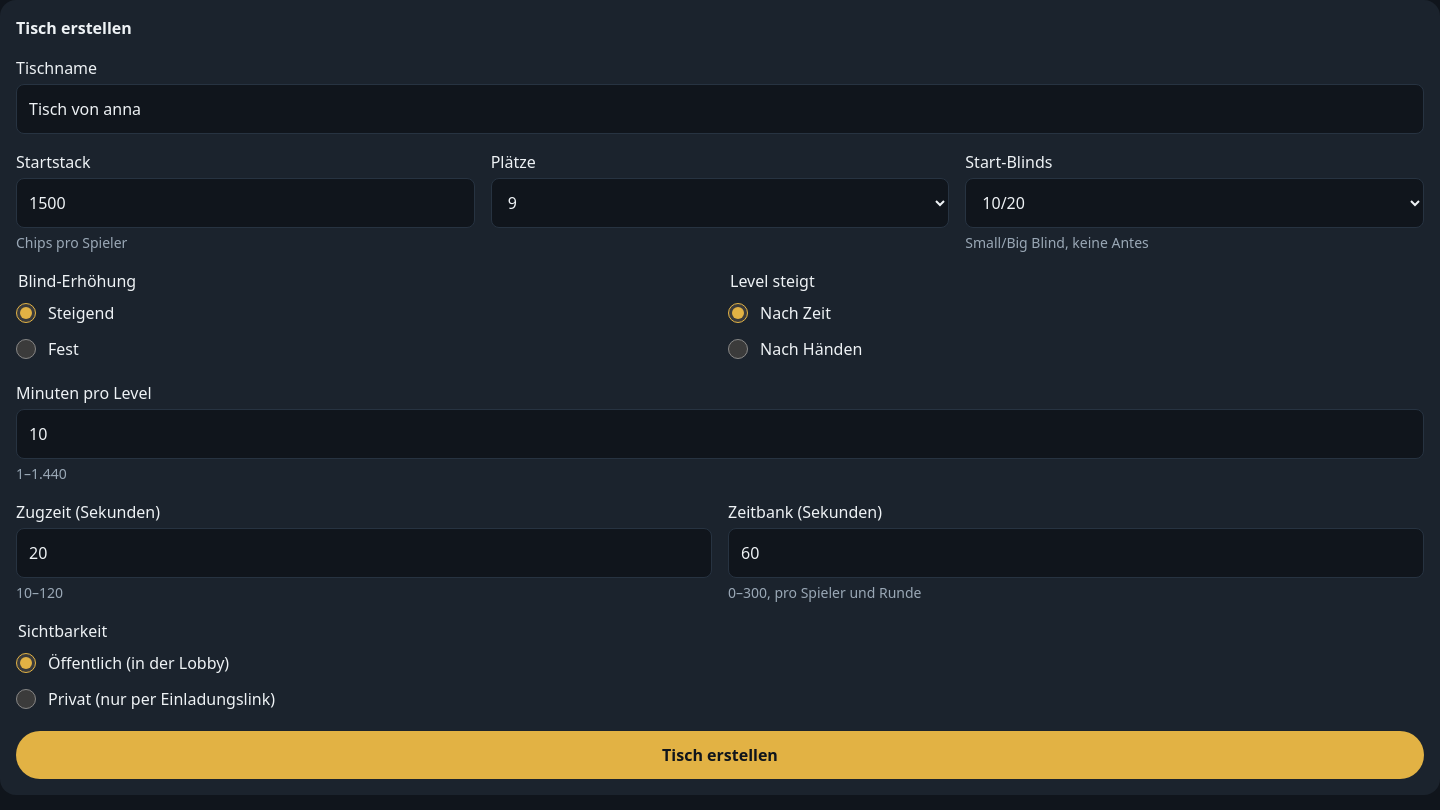
Test case: CreateTableForm › Blinds steigen wahlweise nach Zeit oder nach Händen (WP-036)
The width and height of the screenshot is (1440, 810).
Expected: the radio button labelled "Nach Zeit" is checked, x1=728 y1=303 x2=748 y2=323
Expected: the field labelled "Hände pro Level" is not shown
Click the radio button labelled "Nach Händen" at (738, 349), box x1=728 y1=339 x2=748 y2=359
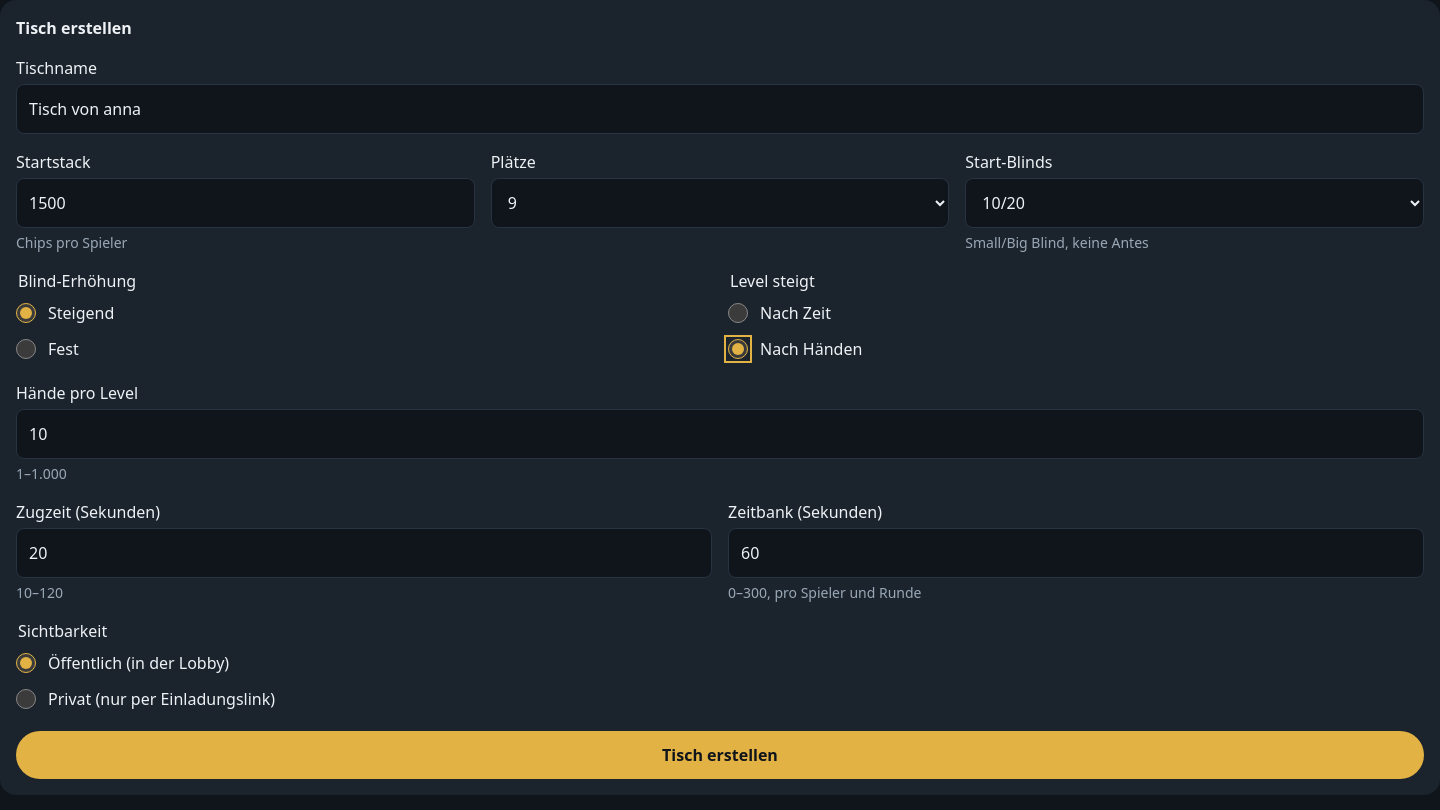
Now the label labelled "Minuten pro Level" is gone
Replace the text in the field labelled "Hände pro Level" with "0" at (720, 434), box x1=16 y1=409 x2=1424 y2=459
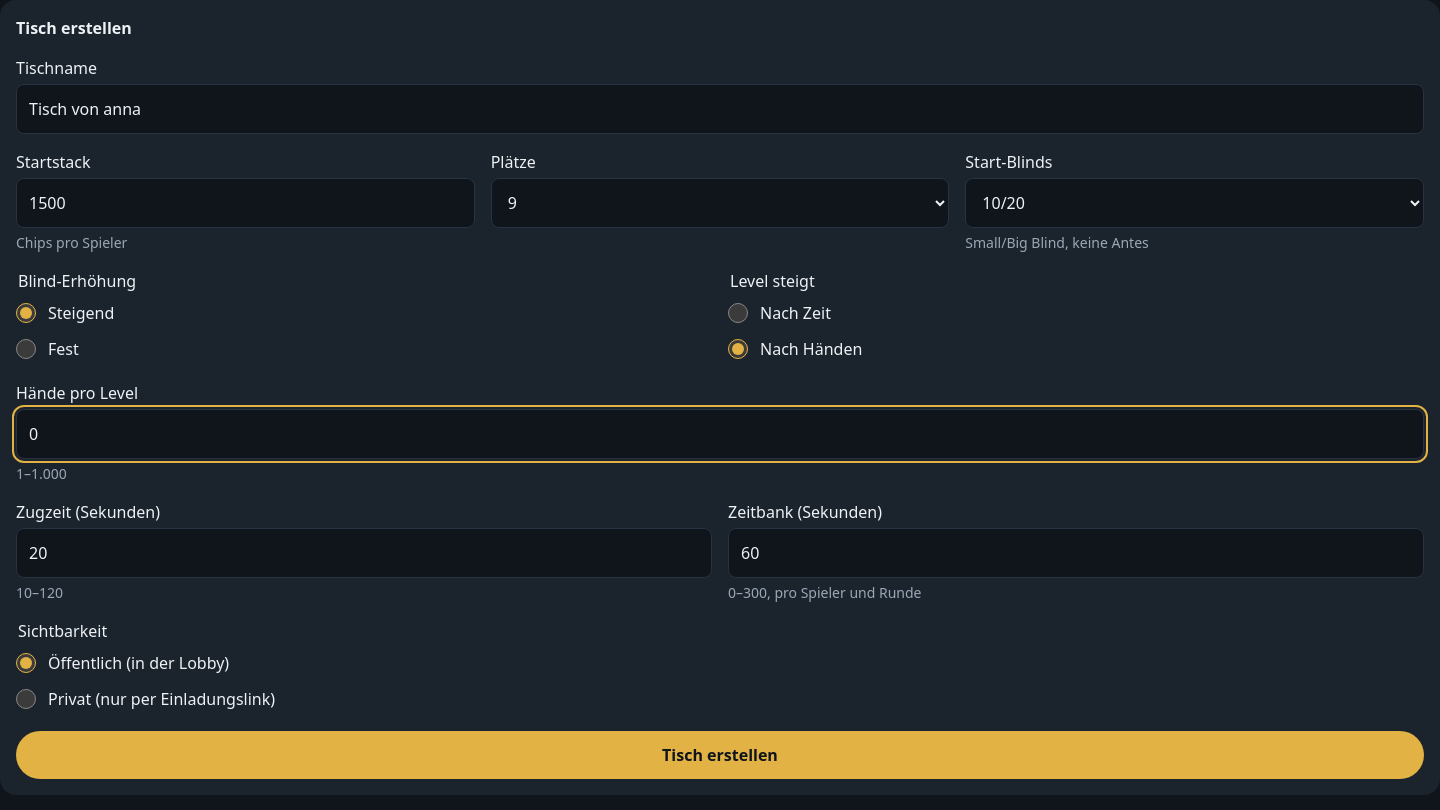
Click the button "Tisch erstellen" at (720, 755), box x1=16 y1=731 x2=1424 y2=779
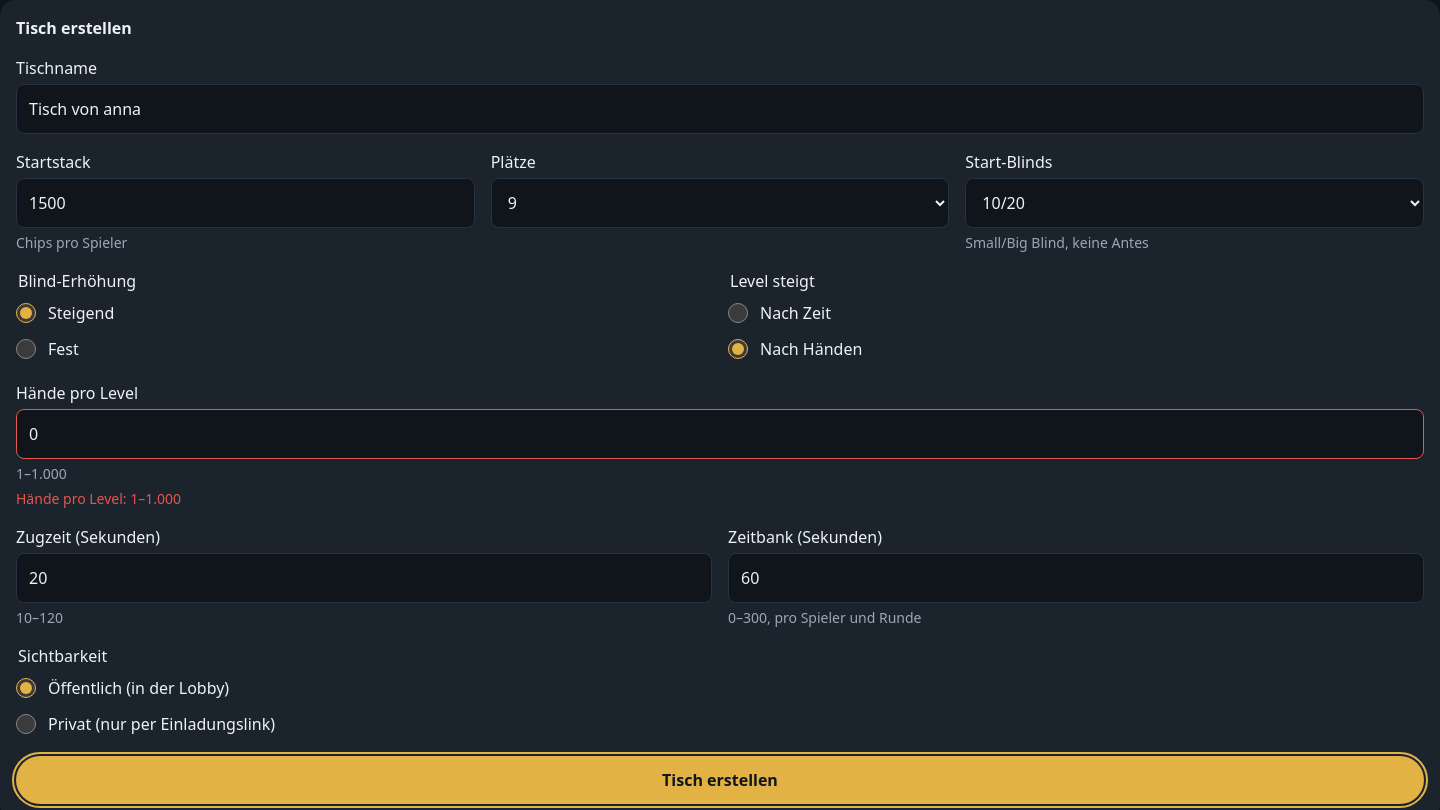
Now the text "Hände pro Level: 1–1.000" is shown, box x1=16 y1=489 x2=181 y2=508
Replace the text in the field labelled "Hände pro Level" with "5" at (720, 434), box x1=16 y1=409 x2=1424 y2=459
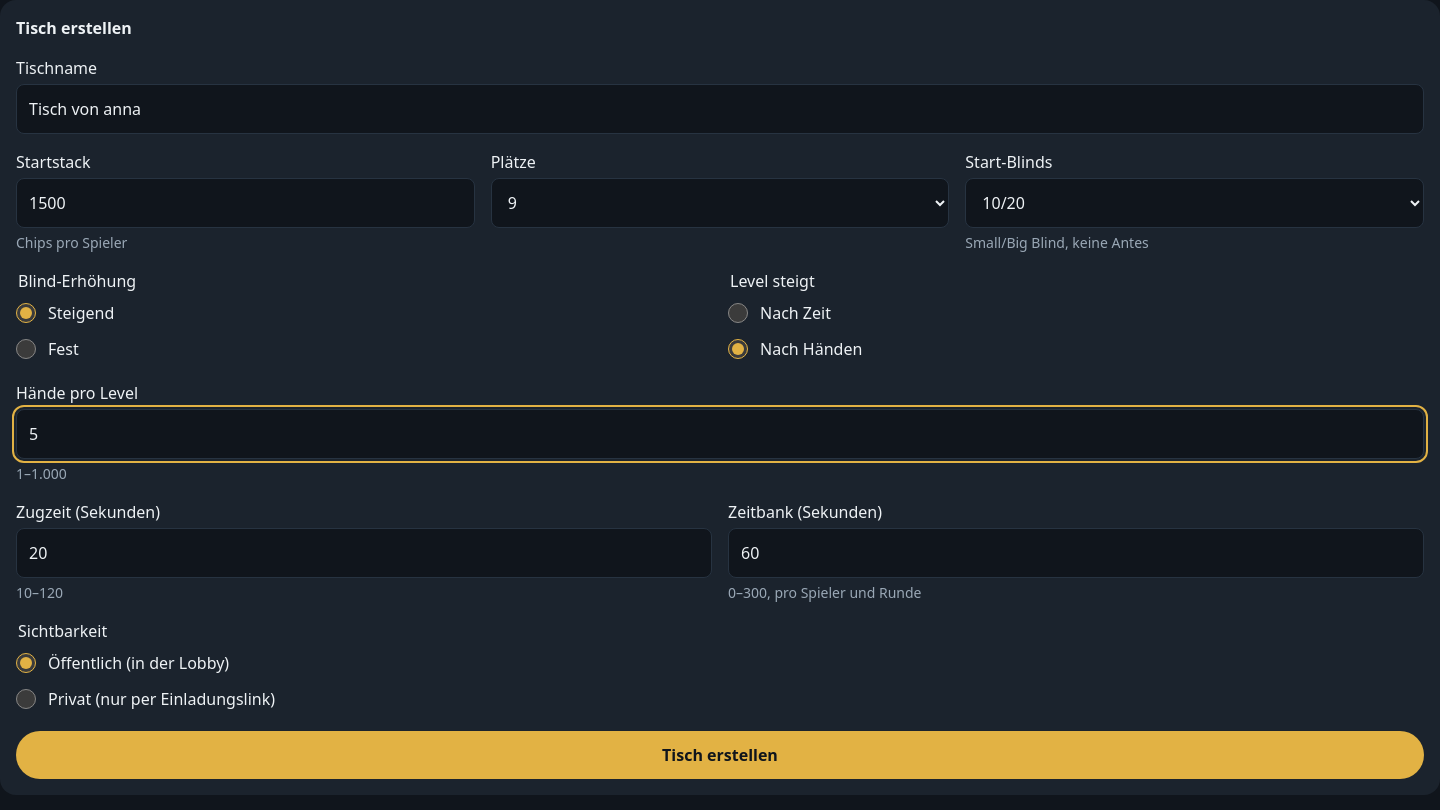
Click the button "Tisch erstellen" at (720, 755), box x1=16 y1=731 x2=1424 y2=779
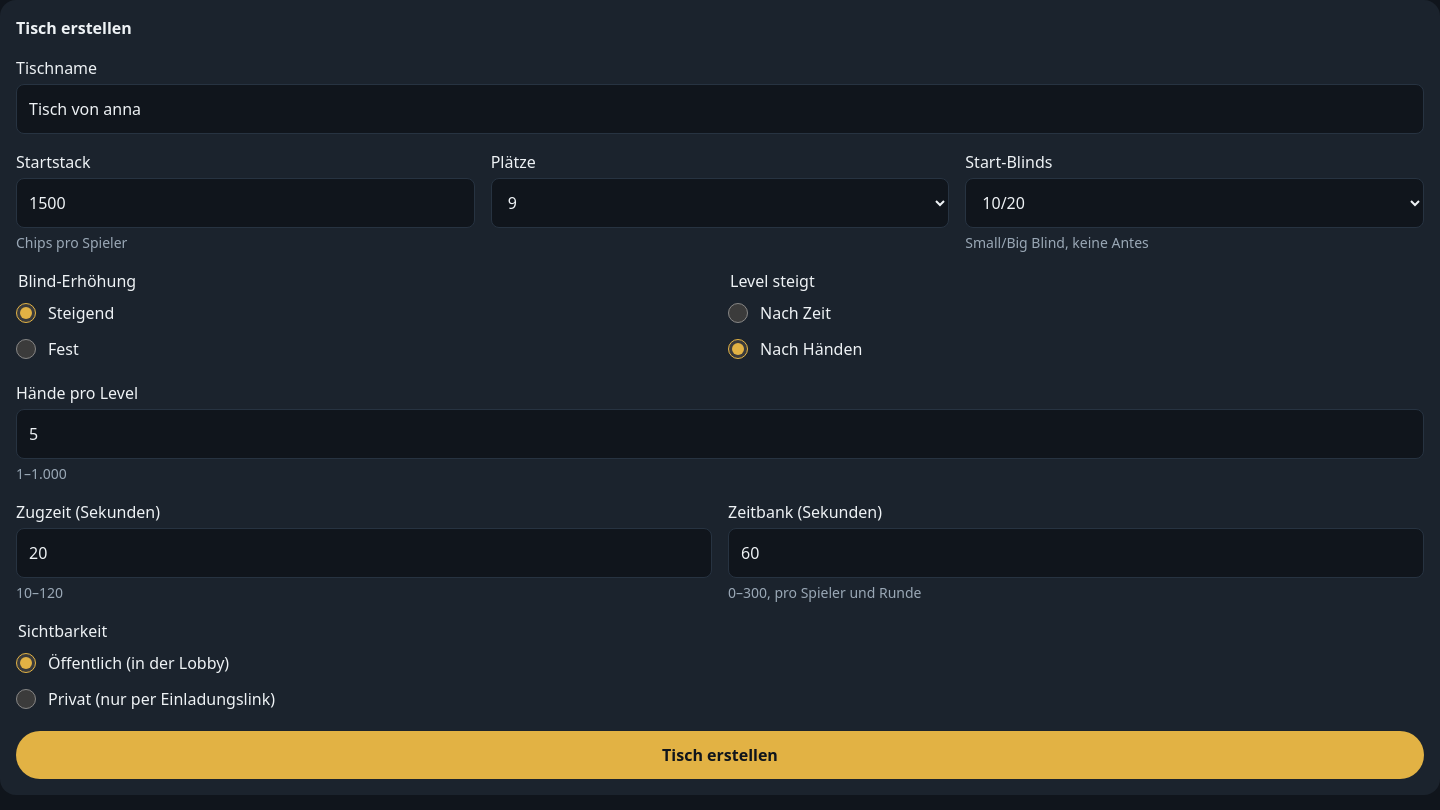
Click the radio button labelled "Fest" at (26, 349), box x1=16 y1=339 x2=36 y2=359
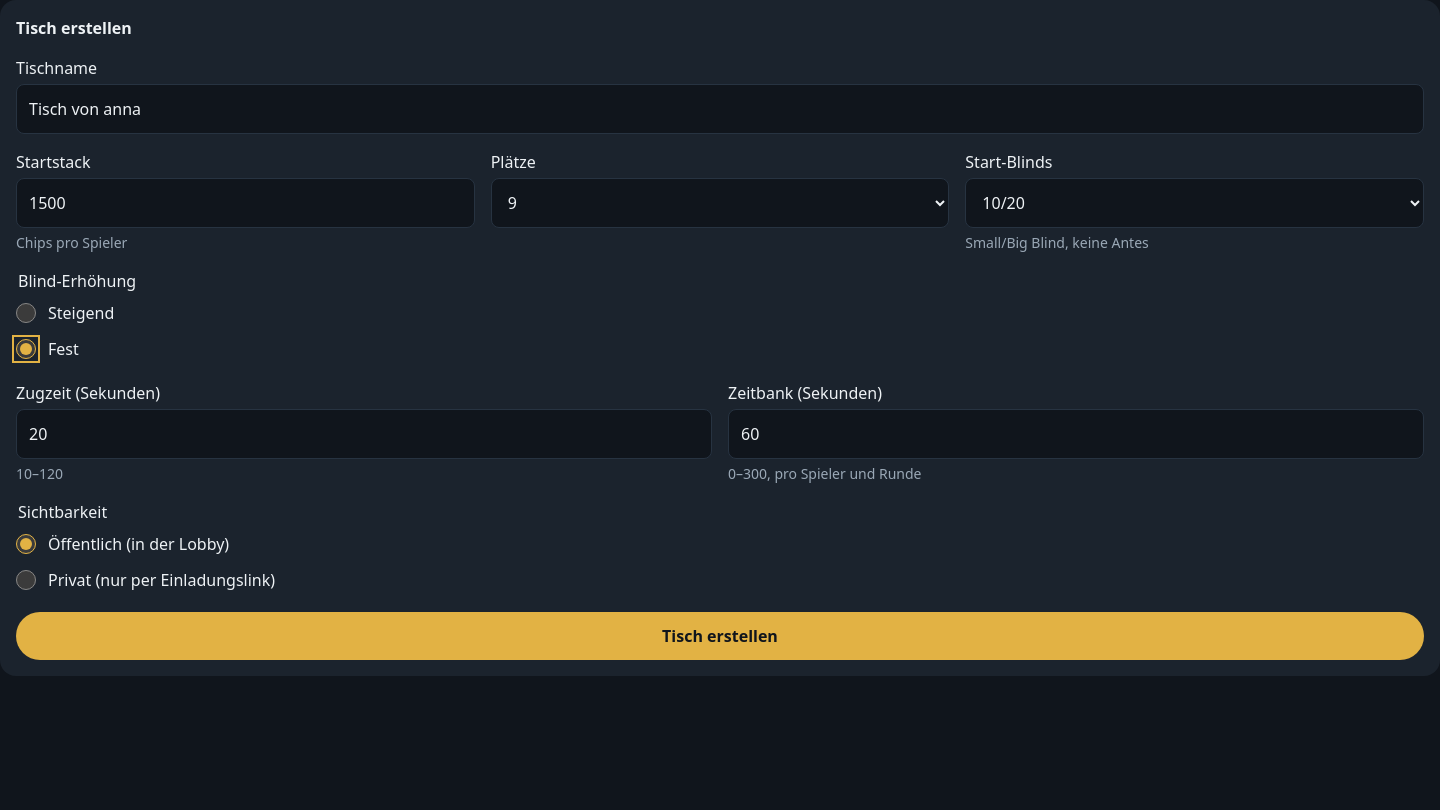
Now the label labelled "Nach Händen" is gone
